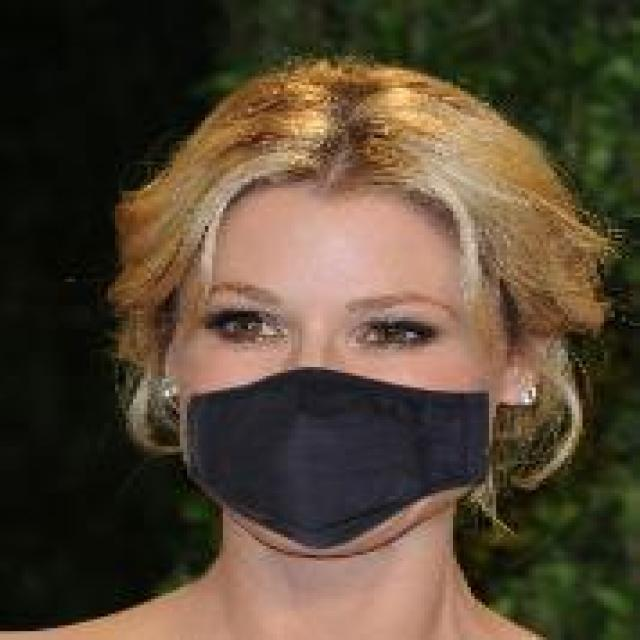mask: (140, 68, 489, 584)
